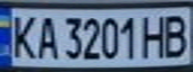0: (100, 14, 121, 61)
1: (118, 13, 142, 60)
2: (78, 14, 103, 61)
3: (60, 12, 84, 61)
A: (33, 12, 60, 61)
B: (160, 11, 193, 58)
H: (139, 11, 172, 60)
K: (6, 11, 39, 60)
